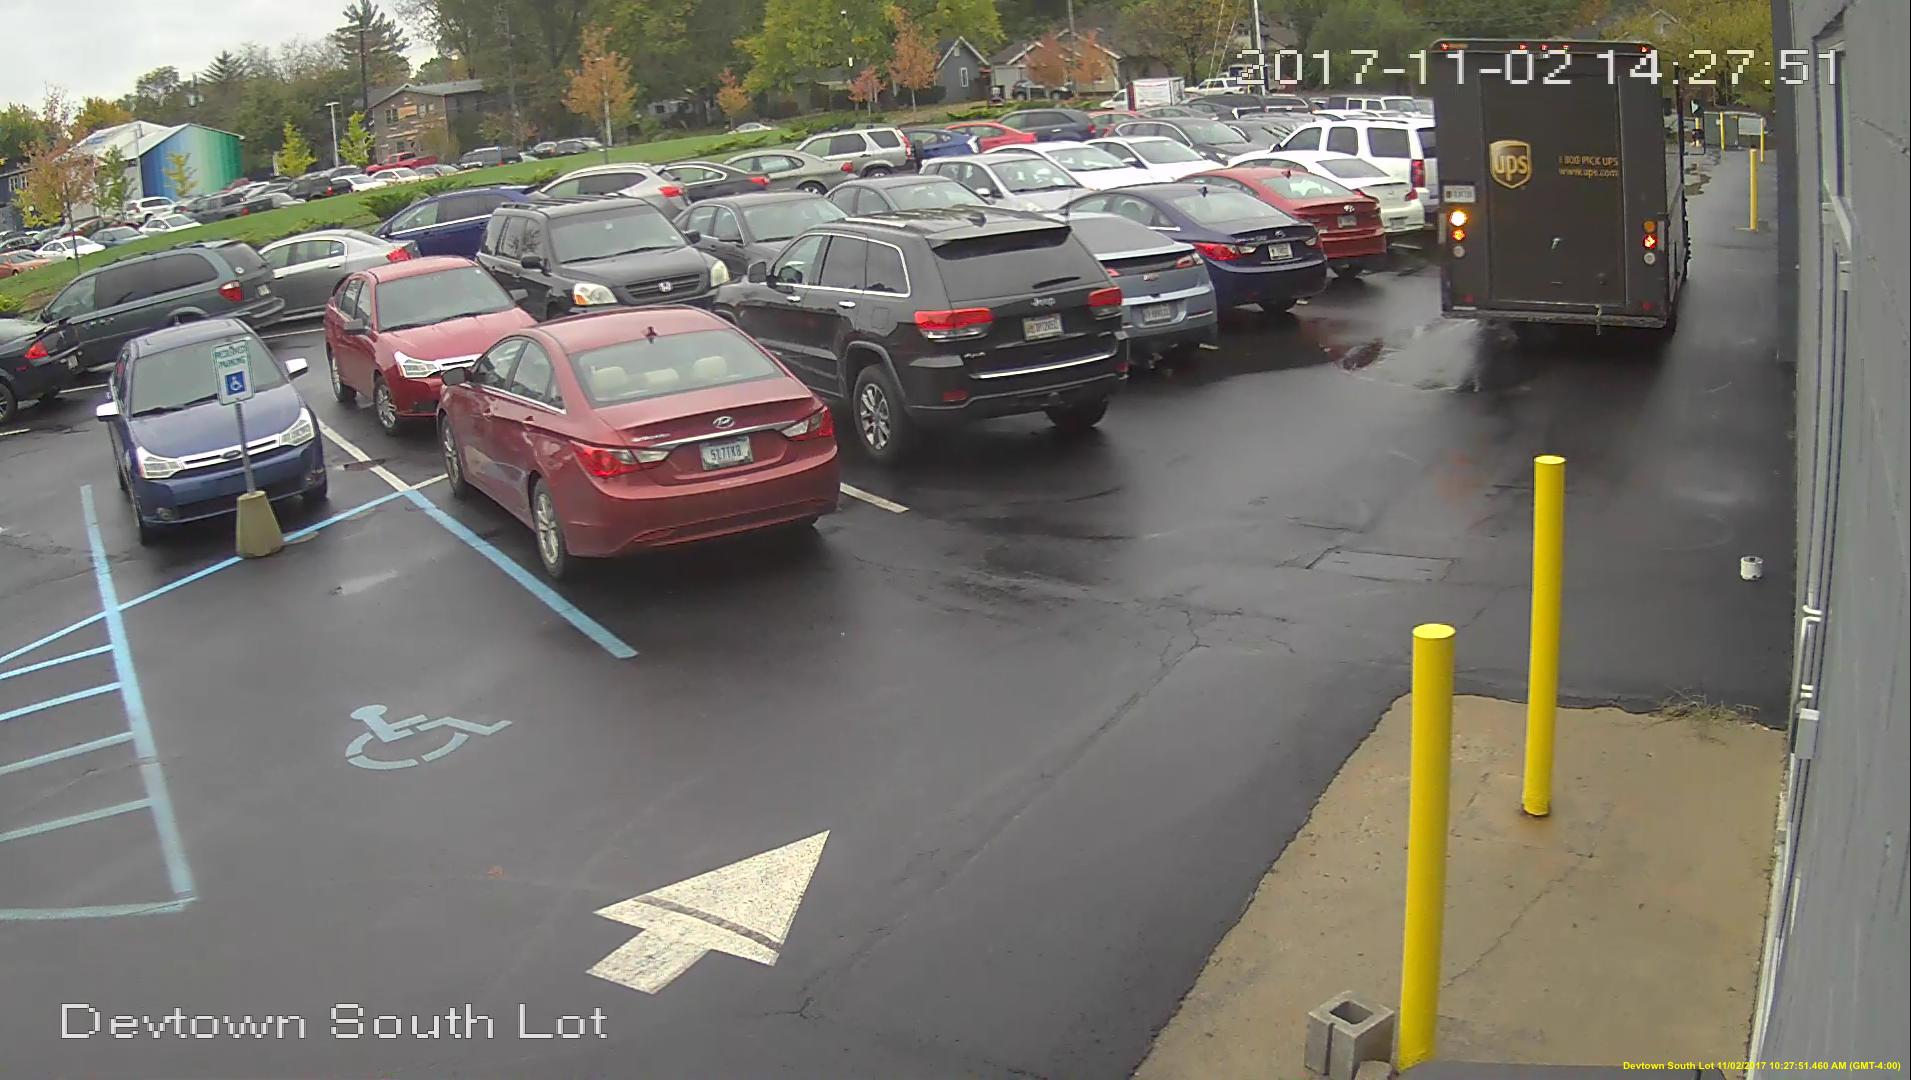ups_truck: (1435, 35, 1690, 353)
